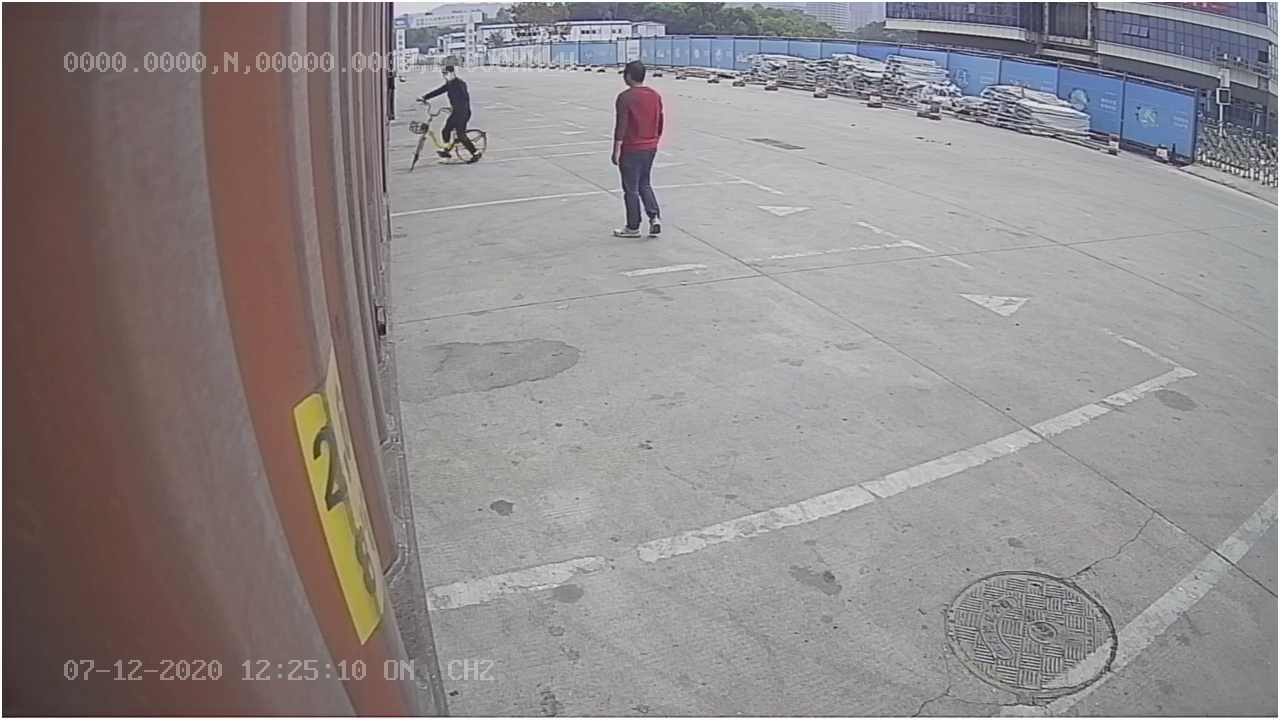person: (605, 56, 668, 245)
